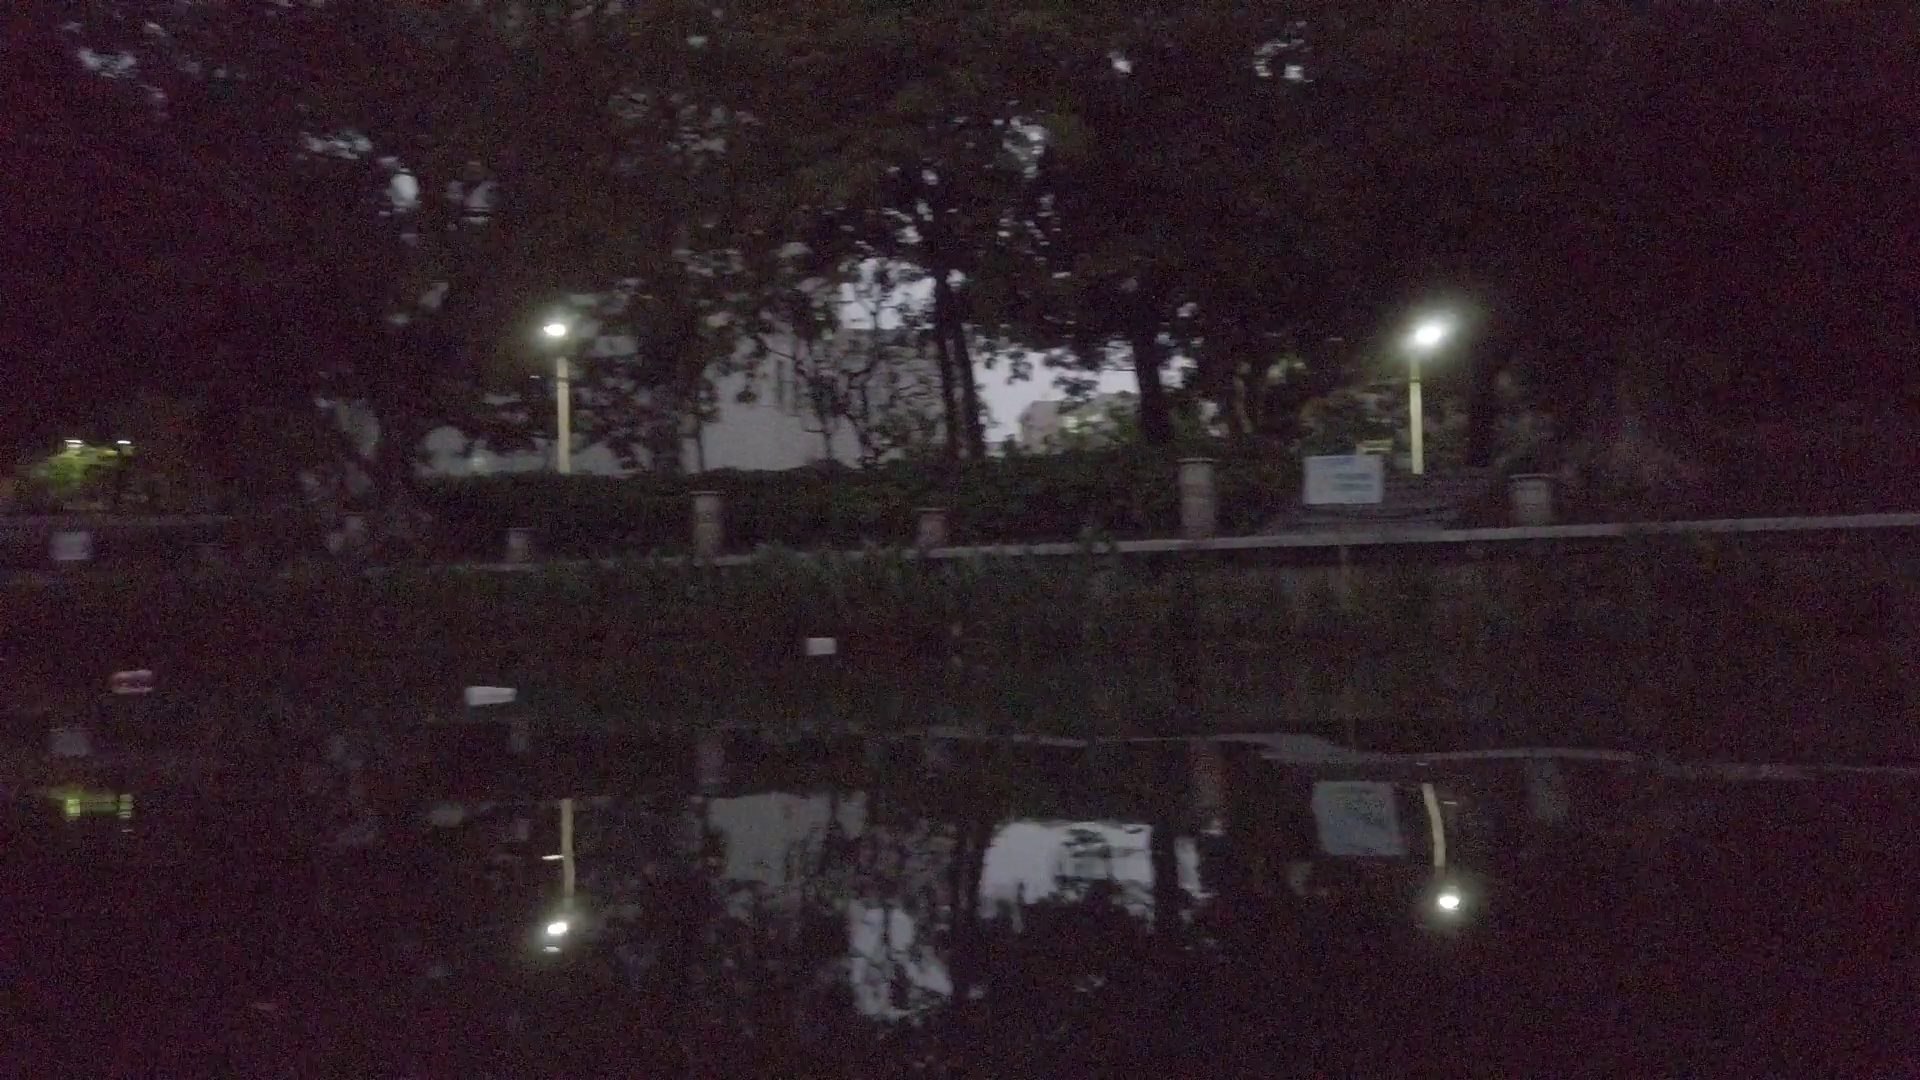bottle: (105, 667, 148, 688)
carton: (467, 684, 518, 708), (808, 633, 833, 651)
